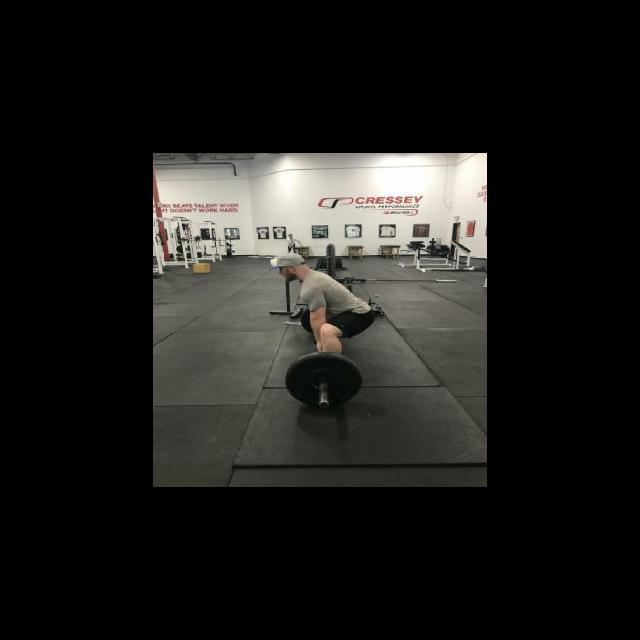barbell: (284, 350, 364, 413)
